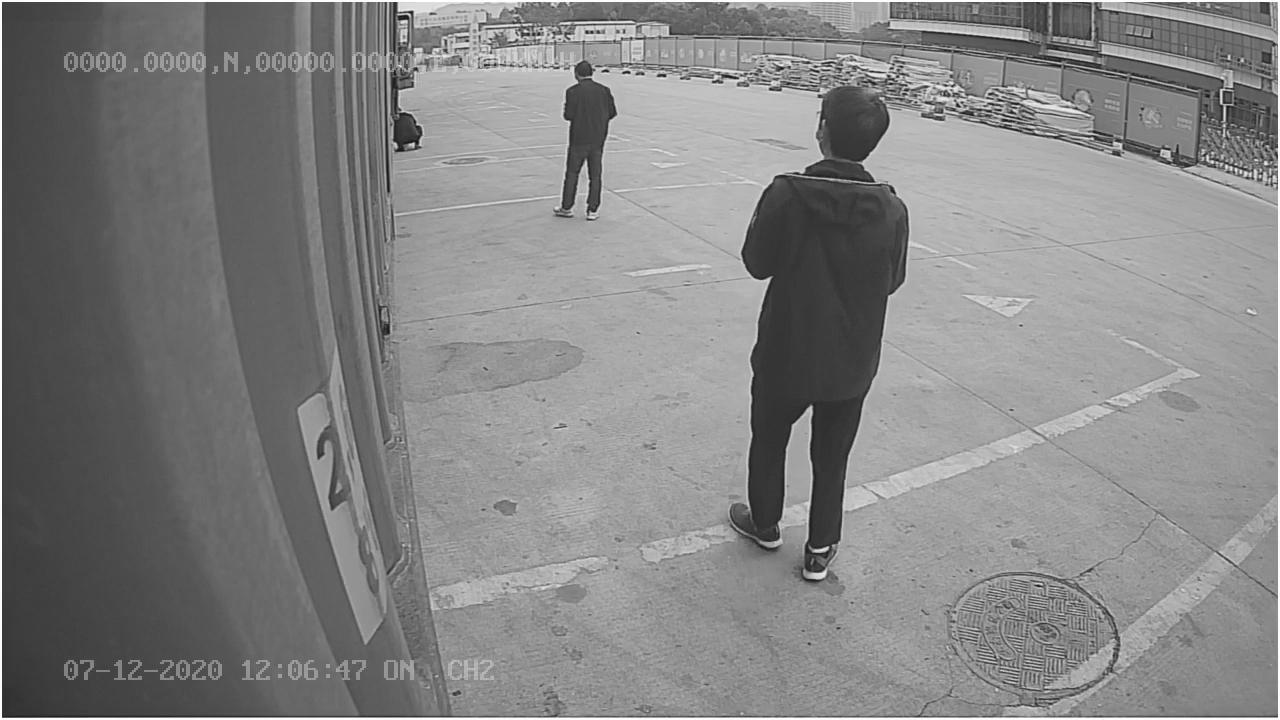person: (725, 83, 910, 580)
